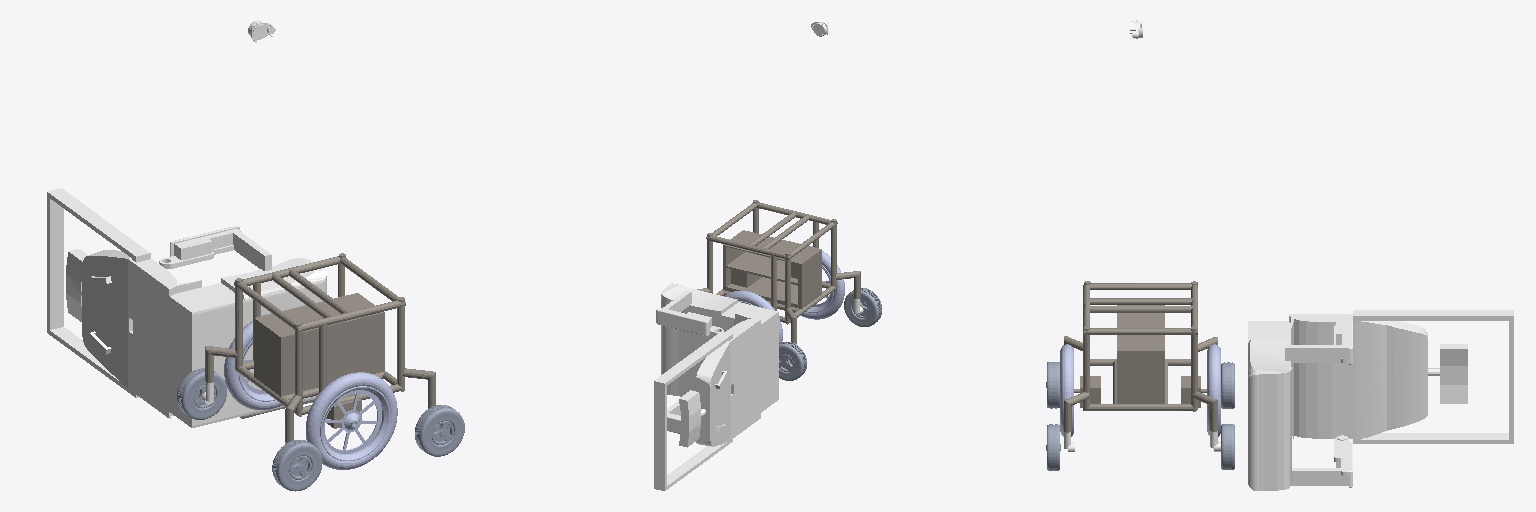
robot.urdf — wheelchair_gp_description:
<?xml version="1.0" encoding="utf-8"?>
<!-- This URDF was automatically created by SolidWorks to URDF Exporter! Originally created by [author] ([email redacted]) 
     Commit Version: 1.6.0-4-g7f85cfe  Build Version: 1.6.7995.38578
     For more information, please see http://wiki.ros.org/sw_urdf_exporter -->
<robot
  name="wheelchair_gp_description">
  <origin xyz="0 0 0.37687875"
        rpy="0 0 0" />
  <link
    name="base_link">
    <inertial>
      <!--origin
        xyz="-0.0393981982931111 -0.0192942548126665 -0.039140937433326"
        rpy="0 0 0" /-->
      
      
      <origin
        xyz="-0.0393981982931111 -0.0192942548126665 0.37687875"
        rpy="0 0 0" />
      <!--origin
        xyz="0.126687 -0.135590 0.376875"
        rpy="-0.000617 0.000934 -0.165792" /-->
      
      
      <mass
        value="102.779125185667" />
      <inertia
        ixx="2.42852161898811"
        ixy="0.00607091134061252"
        ixz="0.168870442034771"
        iyy="3.41666653629475"
        iyz="0.0626572771723994"
        izz="3.61718155630895" />
    </inertial>
    <visual>
      <origin
        xyz="0 0 0"
        rpy="0 0 0" />
      <geometry>
        <mesh
          filename="package://wheelchair_gp_description/meshes/base_link.STL" />
      </geometry>
      <material
        name="">
        <color
          rgba="0.647058823529412 0.619607843137255 0.588235294117647 1" />
      </material>
    </visual>
    <collision>
      <origin
        xyz="0 0 0"
        rpy="0 0 0" />
      <geometry>
        <mesh
          filename="package://wheelchair_gp_description/meshes/base_link.STL" />
      </geometry>
    </collision>
  </link>
  <link
    name="right_wheel_link">
    <inertial>
      <origin
        xyz="0.00522767894205917 -0.0300000000000016 -0.00855456468212881"
        rpy="0 0 0" />
      <mass
        value="3.63792559240615" />
      <inertia
        ixx="0.0501414836571904"
        ixy="2.71630419536481E-18"
        ixz="1.05138532973263E-06"
        iyy="0.0986432390550648"
        iyz="1.38840334310351E-16"
        izz="0.0501395483645078" />
    </inertial>
    <visual>
      <origin
        xyz="0 0 0"
        rpy="0 0 0" />
      <geometry>
        <mesh
          filename="package://wheelchair_gp_description/meshes/right_wheel_link.STL" />
      </geometry>
      <material
        name="">
        <color
          rgba="0.792156862745098 0.819607843137255 0.933333333333333 1" />
      </material>
    </visual>
    <collision>
      <origin
        xyz="0 0 0"
        rpy="0 0 0" />
      <geometry>
        <mesh
          filename="package://wheelchair_gp_description/meshes/right_wheel_link.STL" />
      </geometry>
    </collision>
  </link>
  <joint
    name="right_wheel_joint"
    type="continuous">
    <origin
      xyz="-0.0782370331711224 -0.291972990052419 -0.168374239027783"
      rpy="0 0 0" />
    <parent
      link="base_link" />
    <child
      link="right_wheel_link" />
    <axis
      xyz="0 1 0" />
    <dynamics
      friction="0.2" />
  </joint>
  <link
    name="left_wheel_link">
    <inertial>
      <origin
        xyz="0.000196414984617685 0.0300000000000019 -7.01814500629061E-05"
        rpy="0 0 0" />
      <mass
        value="3.63792559240615" />
      <inertia
        ixx="0.0501416166910778"
        ixy="-4.0426710917635E-18"
        ixz="-9.11182521543613E-07"
        iyy="0.0986432390550647"
        iyz="1.94384398447471E-16"
        izz="0.0501394153306204" />
    </inertial>
    <visual>
      <origin
        xyz="0 0 0"
        rpy="0 0 0" />
      <geometry>
        <mesh
          filename="package://wheelchair_gp_description/meshes/left_wheel_link.STL" />
      </geometry>
      <material
        name="">
        <color
          rgba="0.792156862745098 0.819607843137255 0.933333333333333 1" />
      </material>
    </visual>
    <collision>
      <origin
        xyz="0 0 0"
        rpy="0 0 0" />
      <geometry>
        <mesh
          filename="package://wheelchair_gp_description/meshes/left_wheel_link.STL" />
      </geometry>
    </collision>
  </link>
  <joint
    name="left_wheel_joint"
    type="continuous">
    <origin
      xyz="-0.0732001426526983 0.274956682906951 -0.177013089293031"
      rpy="0 0 0" />
    <parent
      link="base_link" />
    <child
      link="left_wheel_link" />
    <axis
      xyz="0 1 0" />
    <dynamics
      friction="0.2" />
  </joint>
  <link
    name="c_rr_link">
    <inertial>
      <origin
        xyz="-3.13828649178838E-08 -0.00433096505375735 0.0403769854454989"
        rpy="0 0 0" />
      <mass
        value="0.121211258399187" />
      <inertia
        ixx="0.000183879326955444"
        ixy="2.26483161972894E-11"
        ixz="-3.32770029958626E-12"
        iyy="0.000178527913603531"
        iyz="-2.16822895135042E-05"
        izz="2.37333780216088E-05" />
    </inertial>
    <visual>
      <origin
        xyz="0 0 0"
        rpy="0 0 0" />
      <geometry>
        <mesh
          filename="package://wheelchair_gp_description/meshes/c_rr_link.STL" />
      </geometry>
      <material
        name="">
        <color
          rgba="1 1 1 1" />
      </material>
    </visual>
    <collision>
      <origin
        xyz="0 0 0"
        rpy="0 0 0" />
      <geometry>
        <mesh
          filename="package://wheelchair_gp_description/meshes/c_rr_link.STL" />
      </geometry>
    </collision>
  </link>
  <joint
    name="c_rr_joint"
    type="fixed">
    <origin
      xyz="-0.34822491290783 -0.321068087348177 -0.277013089293035"
      rpy="0 0 0" />
    <parent
      link="base_link" />
    <child
      link="c_rr_link" />
    <axis
      xyz="0 0 1" />
  </joint>
  <link
    name="wheel_rr_link">
    <inertial>
      <origin
        xyz="0.00506493217230553 -0.033089156979335 0.00862243945121932"
        rpy="0 0 0" />
      <mass
        value="1.65462119171389" />
      <inertia
        ixx="0.00469812484295982"
        ixy="2.84758213931124E-10"
        ixz="-5.69706560197517E-19"
        iyy="0.00853457249449088"
        iyz="-1.67270638223886E-10"
        izz="0.00469812484295982" />
    </inertial>
    <visual>
      <origin
        xyz="0 0 0"
        rpy="0 0 0" />
      <geometry>
        <mesh
          filename="package://wheelchair_gp_description/meshes/wheel_rr_link.STL" />
      </geometry>
      <material
        name="">
        <color
          rgba="0.666666666666667 0.698039215686274 0.768627450980392 1" />
      </material>
    </visual>
    <collision>
      <origin
        xyz="0 0 0"
        rpy="0 0 0" />
      <geometry>
        <mesh
          filename="package://wheelchair_gp_description/meshes/wheel_rr_link.STL" />
      </geometry>
    </collision>
  </link>
  <joint
    name="wheel_rr_joint"
    type="continuous">
    <origin
      xyz="-0.00506493217230558 -0.026910843020665 -0.00862243945121771"
      rpy="0 0 0" />
    <parent
      link="c_rr_link" />
    <child
      link="wheel_rr_link" />
    <axis
      xyz="0 1 0" />
    <dynamics
      friction="0.01" />
  </joint>
  <link
    name="c_rl_link">
    <inertial>
      <origin
        xyz="3.13828648068615E-08 0.00433096505375724 0.0403769854454989"
        rpy="0 0 0" />
      <mass
        value="0.121211258399187" />
      <inertia
        ixx="0.000183879326955444"
        ixy="2.26483161862401E-11"
        ixz="3.32770036524469E-12"
        iyy="0.000178527913603531"
        iyz="2.16822895135046E-05"
        izz="2.37333780216089E-05" />
    </inertial>
    <visual>
      <origin
        xyz="0 0 0"
        rpy="0 0 0" />
      <geometry>
        <mesh
          filename="package://wheelchair_gp_description/meshes/c_rl_link.STL" />
      </geometry>
      <material
        name="">
        <color
          rgba="1 1 1 1" />
      </material>
    </visual>
    <collision>
      <origin
        xyz="0 0 0"
        rpy="0 0 0" />
      <geometry>
        <mesh
          filename="package://wheelchair_gp_description/meshes/c_rl_link.STL" />
      </geometry>
    </collision>
  </link>
  <joint
    name="c_rl_joint"
    type="fixed">
    <origin
      xyz="-0.341295239948457 0.30405178020271 -0.277013089293035"
      rpy="0 0 0" />
    <parent
      link="base_link" />
    <child
      link="c_rl_link" />
    <axis
      xyz="0 0 1" />
  </joint>
  <link
    name="wheel_rl_link">
    <inertial>
      <origin
        xyz="0.00909629415225127 0.0330891569793352 -0.00415420662650473"
        rpy="0 0 0" />
      <mass
        value="1.65462119171389" />
      <inertia
        ixx="0.00469812484295982"
        ixy="-1.37193706218052E-10"
        ixz="1.55689939042572E-19"
        iyy="0.00853457249449092"
        iyz="-3.00407360040444E-10"
        izz="0.00469812484295982" />
    </inertial>
    <visual>
      <origin
        xyz="0 0 0"
        rpy="0 0 0" />
      <geometry>
        <mesh
          filename="package://wheelchair_gp_description/meshes/wheel_rl_link.STL" />
      </geometry>
      <material
        name="">
        <color
          rgba="0.666666666666667 0.698039215686274 0.768627450980392 1" />
      </material>
    </visual>
    <collision>
      <origin
        xyz="0 0 0"
        rpy="0 0 0" />
      <geometry>
        <mesh
          filename="package://wheelchair_gp_description/meshes/wheel_rl_link.STL" />
      </geometry>
    </collision>
  </link>
  <joint
    name="wheel_rl_joint"
    type="continuous">
    <origin
      xyz="-0.0090962941522516 0.0269108430206658 0.00415420662650628"
      rpy="0 0 0" />
    <parent
      link="c_rl_link" />
    <child
      link="wheel_rl_link" />
    <axis
      xyz="0 1 0" />
    <dynamics
      friction="0.01" />
  </joint>
  <link
    name="c_fl_link">
    <inertial>
      <origin
        xyz="3.13828648068615E-08 0.00433096505375724 0.0403769854454989"
        rpy="0 0 0" />
      <mass
        value="0.121211258399187" />
      <inertia
        ixx="0.000183879326955444"
        ixy="2.26483161950023E-11"
        ixz="3.32770038433127E-12"
        iyy="0.000178527913603531"
        iyz="2.16822895135046E-05"
        izz="2.37333780216089E-05" />
    </inertial>
    <visual>
      <origin
        xyz="0 0 0"
        rpy="0 0 0" />
      <geometry>
        <mesh
          filename="package://wheelchair_gp_description/meshes/c_fl_link.STL" />
      </geometry>
      <material
        name="">
        <color
          rgba="1 1 1 1" />
      </material>
    </visual>
    <collision>
      <origin
        xyz="0 0 0"
        rpy="0 0 0" />
      <geometry>
        <mesh
          filename="package://wheelchair_gp_description/meshes/c_fl_link.STL" />
      </geometry>
    </collision>
  </link>
  <joint
    name="c_fl_joint"
    type="fixed">
    <origin
      xyz="0.27689495464306 0.30405178020271 -0.277013089293036"
      rpy="0 0 0" />
    <parent
      link="base_link" />
    <child
      link="c_fl_link" />
    <axis
      xyz="0 0 1" />
  </joint>
  <link
    name="wheel_fl_link">
    <inertial>
      <origin
        xyz="0.00446139900539383 0.0330891569793352 -0.00894963233404822"
        rpy="0 0 0" />
      <mass
        value="1.65462119171388" />
      <inertia
        ixx="0.00469812484295979"
        ixy="-2.95563822410245E-10"
        ixz="2.01399739995211E-18"
        iyy="0.00853457249449084"
        iyz="-1.47338792133348E-10"
        izz="0.00469812484295979" />
    </inertial>
    <visual>
      <origin
        xyz="0 0 0"
        rpy="0 0 0" />
      <geometry>
        <mesh
          filename="package://wheelchair_gp_description/meshes/wheel_fl_link.STL" />
      </geometry>
      <material
        name="">
        <color
          rgba="0.666666666666667 0.698039215686274 0.768627450980392 1" />
      </material>
    </visual>
    <collision>
      <origin
        xyz="0 0 0"
        rpy="0 0 0" />
      <geometry>
        <mesh
          filename="package://wheelchair_gp_description/meshes/wheel_fl_link.STL" />
      </geometry>
    </collision>
  </link>
  <joint
    name="wheel_fl_joint"
    type="continuous">
    <origin
      xyz="-0.00446139900539422 0.0269108430206658 0.00894963233404933"
      rpy="0 0 0" />
    <parent
      link="c_fl_link" />
    <child
      link="wheel_fl_link" />
    <axis
      xyz="0 -1 0" />
    <dynamics
      friction="0.01" />
  </joint>
  <link
    name="c_fr_link">
    <inertial>
      <origin
        xyz="-3.13828649178838E-08 -0.00433096505375735 0.0403769854454989"
        rpy="0 0 0" />
      <mass
        value="0.121211258399187" />
      <inertia
        ixx="0.000183879326955444"
        ixy="2.26483162485928E-11"
        ixz="-3.32769997596411E-12"
        iyy="0.000178527913603531"
        iyz="-2.16822895135042E-05"
        izz="2.37333780216088E-05" />
    </inertial>
    <visual>
      <origin
        xyz="0 0 0"
        rpy="0 0 0" />
      <geometry>
        <mesh
          filename="package://wheelchair_gp_description/meshes/c_fr_link.STL" />
      </geometry>
      <material
        name="">
        <color
          rgba="1 1 1 1" />
      </material>
    </visual>
    <collision>
      <origin
        xyz="0 0 0"
        rpy="0 0 0" />
      <geometry>
        <mesh
          filename="package://wheelchair_gp_description/meshes/c_fr_link.STL" />
      </geometry>
    </collision>
  </link>
  <joint
    name="c_fr_joint"
    type="fixed">
    <origin
      xyz="0.283824627602434 -0.321068087348177 -0.277013089293038"
      rpy="0 0 0" />
    <parent
      link="base_link" />
    <child
      link="c_fr_link" />
    <axis
      xyz="0 0 1" />
  </joint>
  <link
    name="wheel_fr_link">
    <inertial>
      <origin
        xyz="5.55111512312578E-17 -0.05 1.11022302462516E-16"
        rpy="0 0 0" />
      <mass
        value="1.65462119171389" />
      <inertia
        ixx="0.00469812484295983"
        ixy="-2.5288319359234E-10"
        ixz="1.93364761434344E-18"
        iyy="0.00853457249449091"
        iyz="-2.12407128112193E-10"
        izz="0.00469812484295983" />
    </inertial>
    <visual>
      <origin
        xyz="0 0 0"
        rpy="0 0 0" />
      <geometry>
        <mesh
          filename="package://wheelchair_gp_description/meshes/wheel_fr_link.STL" />
      </geometry>
      <material
        name="">
        <color
          rgba="0.666666666666667 0.698039215686274 0.768627450980392 1" />
      </material>
    </visual>
    <collision>
      <origin
        xyz="0 0 0"
        rpy="0 0 0" />
      <geometry>
        <mesh
          filename="package://wheelchair_gp_description/meshes/wheel_fr_link.STL" />
      </geometry>
    </collision>
  </link>
  <joint
    name="wheel_fr_joint"
    type="continuous">
    <origin
      xyz="0 -0.01 0"
      rpy="0 0 0" />
    <parent
      link="c_fr_link" />
    <child
      link="wheel_fr_link" />
    <axis
      xyz="0 1 0" />
    <dynamics
      friction="0.01" />
  </joint>
  <link
    name="chair_link">
    <inertial>
      <origin
        xyz="-0.186634259898291 0.000154601290753766 0.685315360247557"
        rpy="0 0 0" />
      <mass
        value="114.06700966343" />
      <inertia
        ixx="9.01362340563565"
        ixy="0.0220781525155631"
        ixz="2.75872047758239"
        iyy="10.1495034165686"
        iyz="0.0794043830621218"
        izz="6.74522524259257" />
    </inertial>
    <visual>
      <origin
        xyz="0 0 0"
        rpy="0 0 0" />
      <geometry>
        <mesh
          filename="package://wheelchair_gp_description/meshes/chair_link.STL" />
      </geometry>
      <material
        name="">
        <color
          rgba="1 1 1 0.3" />
      </material>
    </visual>
    <collision>
      <origin
        xyz="0 0 0"
        rpy="0 0 0" />
      <geometry>
        <mesh
          filename="package://wheelchair_gp_description/meshes/chair_link.STL" />
      </geometry>
    </collision>
  </link>
  <joint
    name="chair_joint"
    type="fixed">
    <origin
      xyz="0.0850649844123319 -0.0219729900524205 -0.213013089293032"
      rpy="0 0 0" />
    <parent
      link="base_link" />
    <child
      link="chair_link" />
    <axis
      xyz="0 0 0" />
  </joint>
  <link
    name="laser_link">
    <inertial>
      <origin
        xyz="0.000495122459176101 0.0164439641378342 0.00393830970343445"
        rpy="0 0 0" />
      <mass
        value="0.171593009361433" />
      <inertia
        ixx="8.81695539048464E-05"
        ixy="1.02435205100894E-06"
        ixz="-2.45142607227698E-07"
        iyy="5.55321136136403E-05"
        iyz="-4.34621326843885E-06"
        izz="0.000129552246180809" />
    </inertial>
    <visual>
      <origin
        xyz="0 0 0"
        rpy="0 0 0" />
      <geometry>
        <mesh
          filename="package://wheelchair_gp_description/meshes/laser_link.STL" />
      </geometry>
      <material
        name="">
        <color
          rgba="1 1 1 0.3" />
      </material>
    </visual>
    <collision>
      <origin
        xyz="0 0 0"
        rpy="0 0 0" />
      <geometry>
        <mesh
          filename="package://wheelchair_gp_description/meshes/laser_link.STL" />
      </geometry>
    </collision>
  </link>
  <joint
    name="laser_joint"
    type="fixed">
    <origin
      xyz="-0.374765127065032 0 1.62499193284082"
      rpy="0 0 0" />
    <parent
      link="chair_link" />
    <child
      link="laser_link" />
    <axis
      xyz="0 0 0" />
  </joint>
  <link
    name="imu_link">
    <inertial>
      <origin
        xyz="0.0189494667461579 0.005 -0.0105210784313726"
        rpy="0 0 0" />
      <mass
        value="0.00813424809545575" />
      <inertia
        ixx="3.67920423318068E-07"
        ixy="-1.26706175703357E-21"
        ixz="1.24717459690727E-21"
        iyy="1.27375650027243E-06"
        iyz="-2.11757715652617E-22"
        izz="1.04140687854529E-06" />
    </inertial>
    <visual>
      <origin
        xyz="0 0 0"
        rpy="0 0 0" />
      <geometry>
        <mesh
          filename="package://wheelchair_gp_description/meshes/imu_link.STL" />
      </geometry>
      <material
        name="">
        <color
          rgba="1 1 1 1" />
      </material>
    </visual>
    <collision>
      <origin
        xyz="0 0 0"
        rpy="0 0 0" />
      <geometry>
        <mesh
          filename="package://wheelchair_gp_description/meshes/imu_link.STL" />
      </geometry>
    </collision>
  </link>
  <joint
    name="imu_joint"
    type="fixed">
    <origin
      xyz="0.156900923854985 0.0739145260442063 0.136986910706968"
      rpy="1.5707963267949 0 0" />
    <parent
      link="base_link" />
    <child
      link="imu_link" />
    <axis
      xyz="0 0 0" />
  </joint>
  
    

   <gazebo reference="imu_link">
    <gravity>true</gravity>
    <sensor name="imu_sensor" type="imu">
      <always_on>true</always_on>
      <update_rate>100</update_rate>
      <visualize>true</visualize>
      <topic>__default_topic__</topic>
      <plugin filename="libgazebo_ros_imu_sensor.so" name="imu_plugin">
        <topicName>imu</topicName>
        <bodyName>imu_link</bodyName>
        <updateRateHZ>10.0</updateRateHZ>
        <gaussianNoise>0.0</gaussianNoise>
        <xyzOffset>0 0 0</xyzOffset>
        <rpyOffset>0 0 0</rpyOffset>
        <frameName>imu_link</frameName>
        <initialOrientationAsReference>false</initialOrientationAsReference>
      </plugin>
      <pose>0 0 0 0 0 0</pose>
    </sensor>
  </gazebo>
  
  
  
  

<gazebo reference="right_wheel_link">
<material>Gazebo/Black</material>
</gazebo>	

<gazebo reference="left_wheel_link">

<material>Gazebo/Black</material>
</gazebo>

<gazebo reference="wheel_rl_link">

<material>Gazebo/Blue</material>
</gazebo>	

<gazebo reference="wheel_rr_link">

<material>Gazebo/Blue</material>
</gazebo>



<gazebo reference="wheel_fr_link">

<material>Gazebo/Blue</material>
</gazebo>	

<gazebo reference="wheel_fl_link">

<material>Gazebo/Blue</material>
</gazebo>



<gazebo reference="base_link">

<material>Gazebo/Silver</material>
</gazebo>



<gazebo reference="chair_link">

<material>Gazebo/Red</material>
</gazebo>



<gazebo reference="laser_link">

<material>Gazebo/Green</material>
</gazebo>
  <!-- hokuyo -->
  <gazebo reference="laser_link">
    <sensor type="ray" name="head_hokuyo_sensor">
      <pose>0 0 0 0 0 0</pose>
      <visualize>true</visualize>
      <update_rate>40</update_rate>
      <ray>
        <scan>
          <horizontal>
            <samples>1024</samples>
            <resolution>1</resolution>
            <min_angle>-3.14</min_angle>
            <max_angle>3.14</max_angle>
          </horizontal>
        </scan>
        <range>
          <min>0.10</min>
          <max>30.0</max>
          <resolution>0.01</resolution>
        </range>
        <noise>
          <type>gaussian</type>
          <!-- Noise parameters based on published spec for Hokuyo laser
               achieving "+-30mm" accuracy at range < 10m.  A mean of 0.0m and
               stddev of 0.01m will put 99.7% of samples within 0.03m of the true
               reading. -->
          <mean>0.0</mean>
          <stddev>0.01</stddev>
        </noise>
      </ray>
      <plugin name="gazebo_ros_head_hokuyo_controller" filename="libgazebo_ros_laser.so">
        <topicName>/scan</topicName>
        <frameName>laser_link</frameName>
      </plugin>
    </sensor>
  </gazebo>

  
  

  
  <gazebo>
  <plugin name="differential_drive_controller" filename="libgazebo_ros_diff_drive.so">
    <alwaysOn>true</alwaysOn>
    <legacyMode>false</legacyMode>
    <updateRate>40</updateRate>
    <leftJoint>left_wheel_joint</leftJoint>
    <rightJoint>right_wheel_joint</rightJoint>
    <wheelSeparation>0.6</wheelSeparation>
    <wheelDiameter>0.3</wheelDiameter>
    <torque>250</torque>
    <wheelTorque>500</wheelTorque>
    <commandTopic>cmd_vel</commandTopic>
    <odometryTopic>odom</odometryTopic>
    <odometryFrame>odom</odometryFrame>
    <robotBaseFrame>base_link</robotBaseFrame>
  </plugin>
</gazebo>



  
  
  
  
  
  
  
  
  
  
  
  
  
</robot>

--- What the picture shows (computed from the rendered views, not written in the file) ---
The picture shows the robot from 3 angles, left to right: view 1: azimuth 30°, elevation 25°; view 2: azimuth 150°, elevation 25°; view 3: azimuth 270°, elevation 25°; orthographic projection.
Model wheelchair_gp_description with 14 links and 13 joints (6 continuous, 7 fixed), rooted at base_link, posed all joints at 0.
Visible links, largest first — view 1: chair_link, base_link, right_wheel_link, wheel_fr_link, wheel_rr_link, wheel_rl_link, left_wheel_link; view 2: chair_link, base_link, wheel_rr_link, right_wheel_link, wheel_rl_link, left_wheel_link; view 3: chair_link, base_link, right_wheel_link, left_wheel_link, wheel_rl_link, wheel_fl_link, wheel_fr_link, wheel_rr_link.
Link boxes in pixels (x1=…): chair_link: x1=47, y1=188, x2=326, y2=427; base_link: x1=205, y1=253, x2=435, y2=442; right_wheel_link: x1=306, y1=372, x2=397, y2=469; wheel_fr_link: x1=415, y1=405, x2=464, y2=456; wheel_rr_link: x1=272, y1=440, x2=322, y2=491; wheel_rl_link: x1=177, y1=368, x2=226, y2=419; left_wheel_link: x1=224, y1=313, x2=281, y2=409; chair_link: x1=654, y1=283, x2=778, y2=490; base_link: x1=697, y1=200, x2=860, y2=343; wheel_rr_link: x1=844, y1=288, x2=881, y2=326; right_wheel_link: x1=800, y1=246, x2=844, y2=319; wheel_rl_link: x1=779, y1=342, x2=806, y2=380; left_wheel_link: x1=724, y1=291, x2=782, y2=342; chair_link: x1=1248, y1=310, x2=1513, y2=490; base_link: x1=1064, y1=281, x2=1217, y2=432; right_wheel_link: x1=1060, y1=344, x2=1073, y2=436; left_wheel_link: x1=1207, y1=344, x2=1220, y2=436; wheel_rl_link: x1=1221, y1=362, x2=1234, y2=408; wheel_fl_link: x1=1221, y1=424, x2=1234, y2=469; wheel_fr_link: x1=1046, y1=424, x2=1060, y2=470; wheel_rr_link: x1=1046, y1=362, x2=1059, y2=408.
Size in the robot's own frame: 0.832 by 1.99 by 1.99 metres.
13 mesh visuals loaded from 14 distinct referenced files (13 binary STL); not drawn: 1 (reference not matched to a file when rendering).
